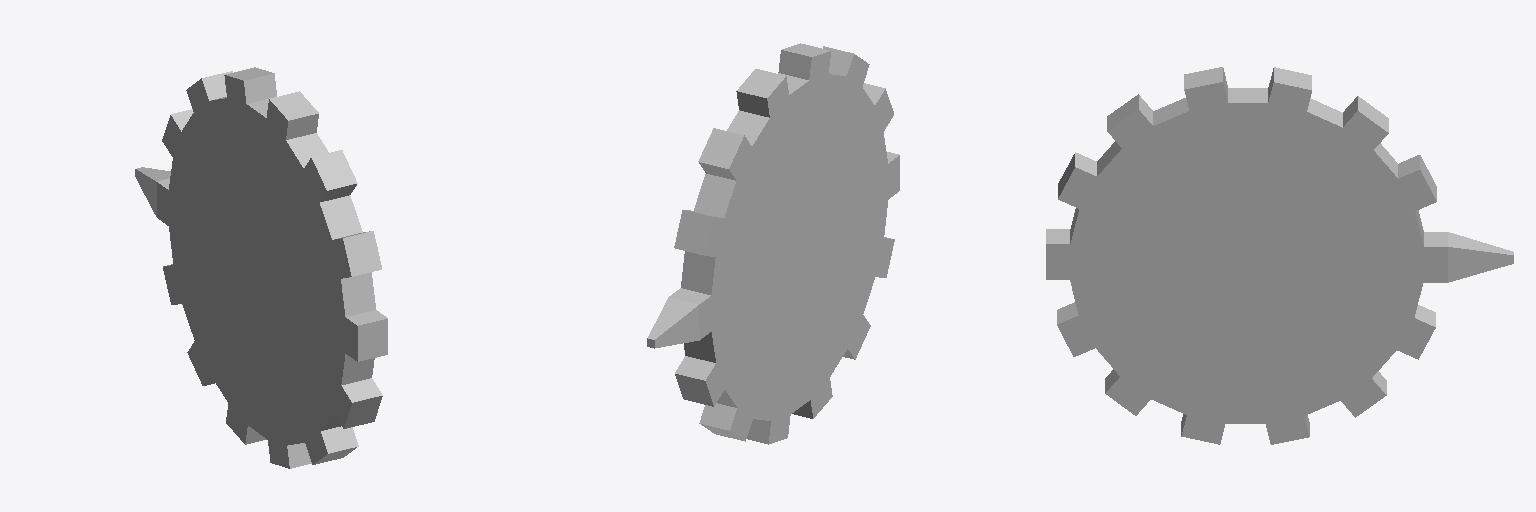
File: gear_000016.obj
The picture shows the model from 3 angles: view 1: azimuth 30°, elevation 25°; view 2: azimuth 150°, elevation 25°; view 3: azimuth 270°, elevation 25°; orthographic projection.
Parts seen in each view (by area): view 1: gear_Cylinder.001; view 2: gear_Cylinder.001; view 3: gear_Cylinder.001.
Boxes of the visible parts, <box> form: gear_Cylinder.001: <box>135,67,387,468</box>; gear_Cylinder.001: <box>647,43,899,444</box>; gear_Cylinder.001: <box>1046,67,1513,444</box>.
Size of the model in its own units: 0.1 by 1.13 by 1.32.